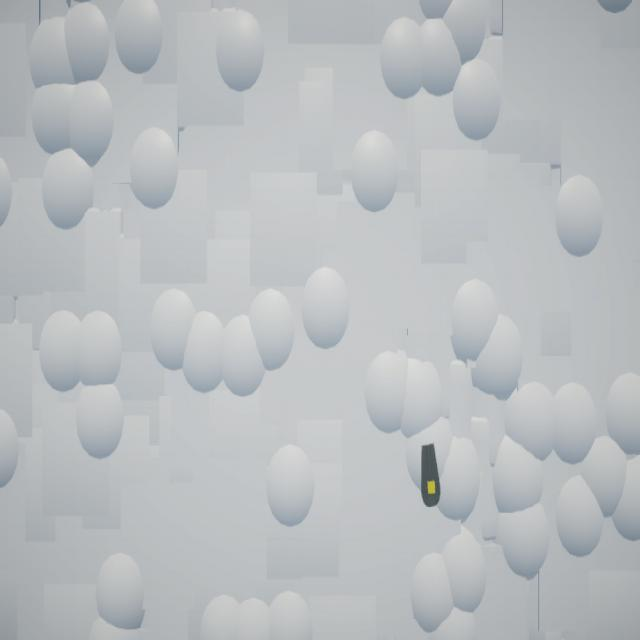handle_folk: (422, 444, 442, 508)
